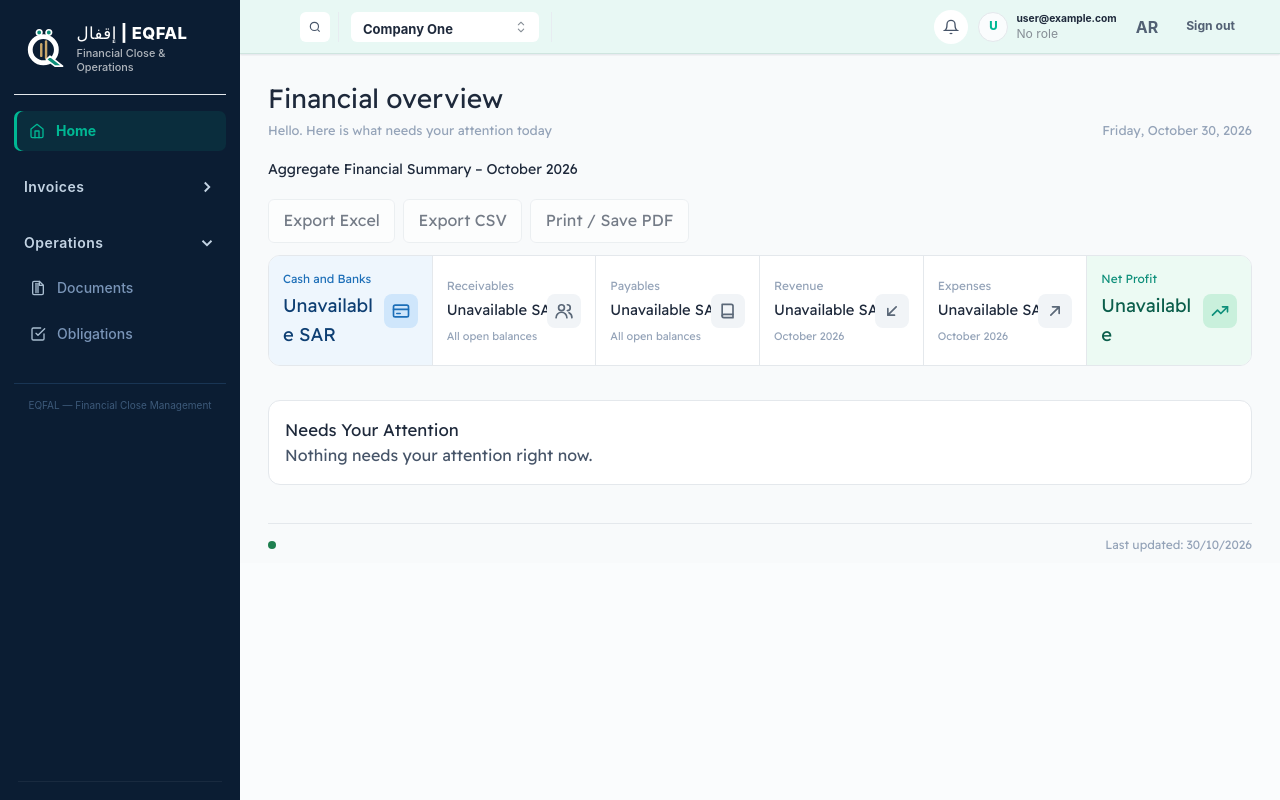
Scenario: authenticated application shell › shows Sales navigation only with both required read capabilities
The image size is (1280, 800).
Expected: the button "Sales Invoices" is not shown
Click the button "Invoices" at (120, 187), box [14,167,226,207]
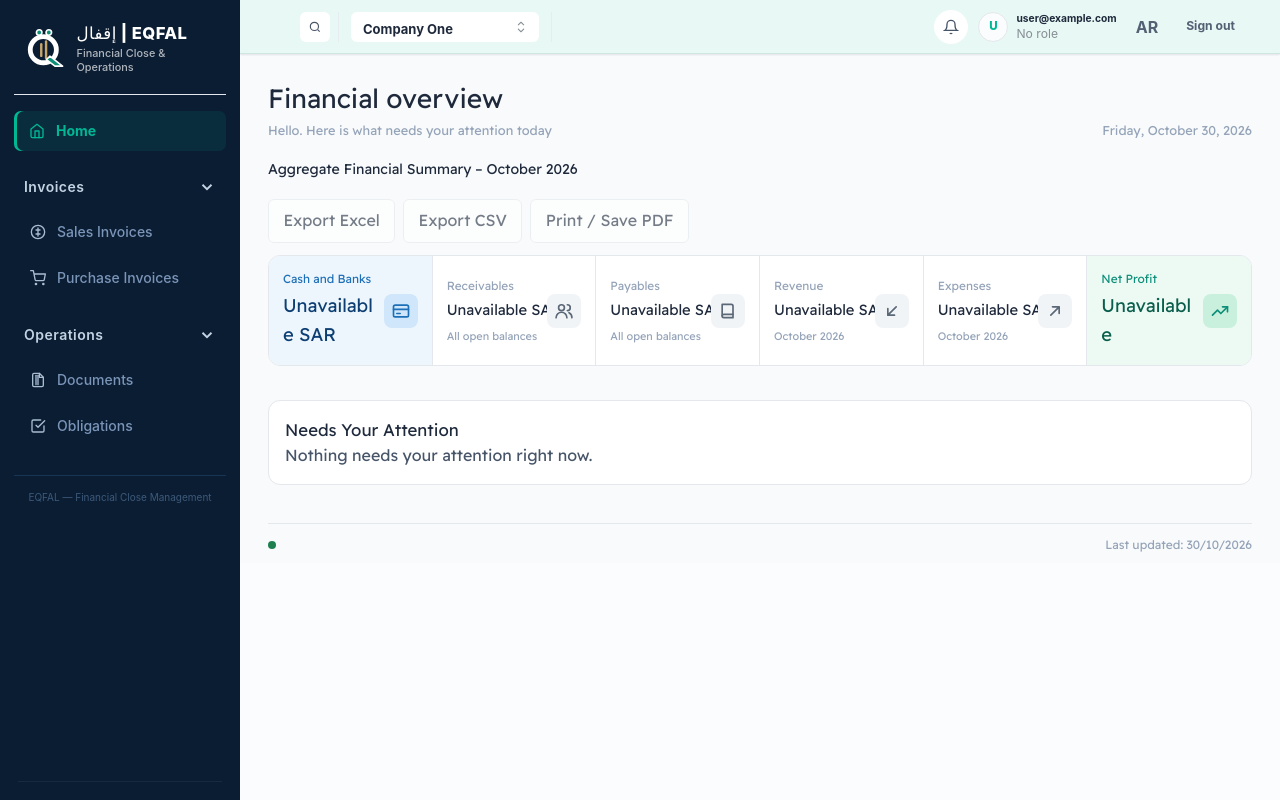
Now the button "Sales Invoices" is shown, box [14,211,226,253]
